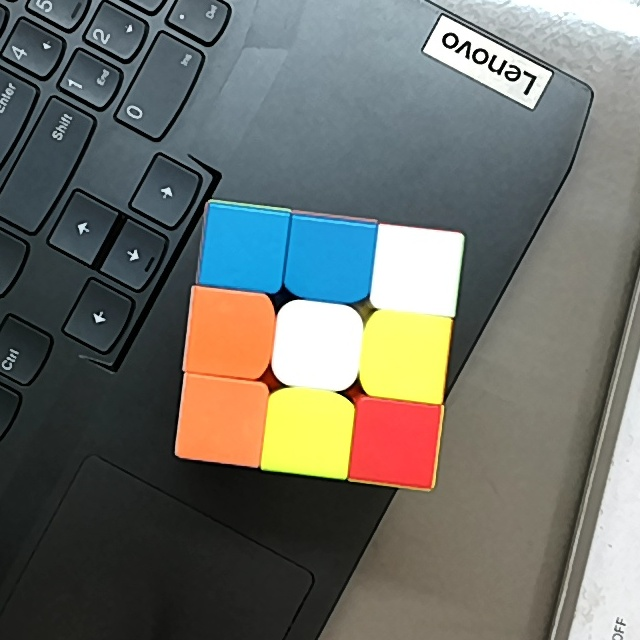tile: (186, 385, 257, 456), (193, 301, 263, 367), (284, 312, 349, 381), (295, 227, 363, 292), (362, 410, 430, 475), (384, 239, 449, 306), (275, 398, 339, 465), (212, 218, 279, 281), (373, 324, 439, 387)
